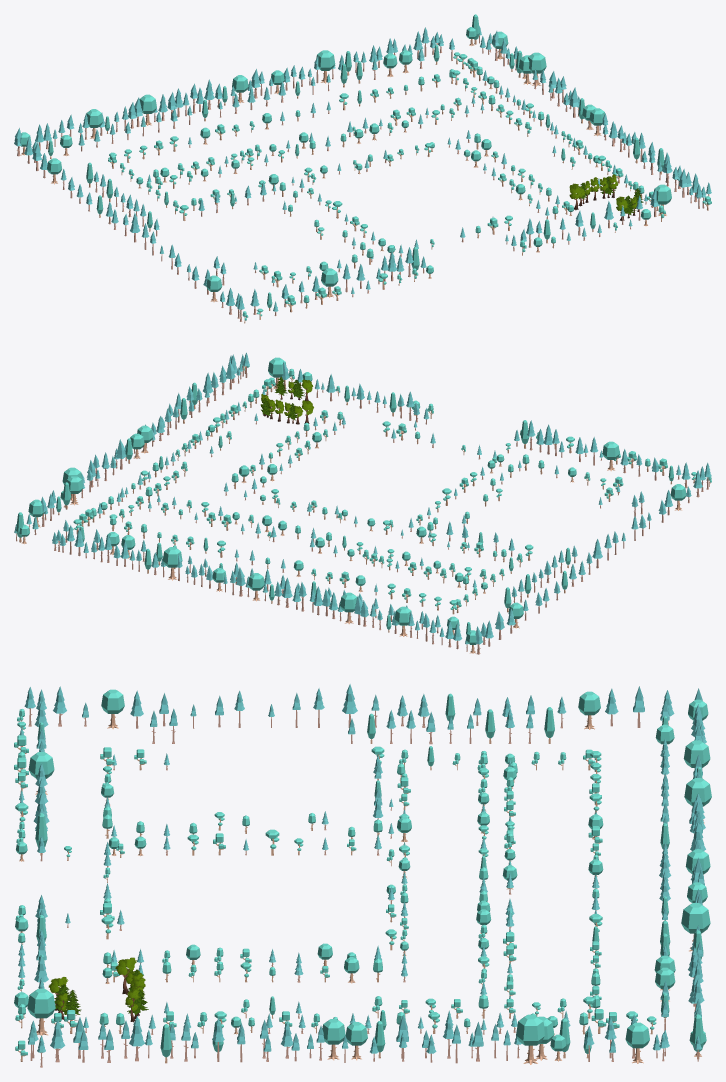
The model's file is ov-trees.glb.
3 views of the same model, one above another, from view 1: azimuth 30°, elevation 25°; view 2: azimuth 150°, elevation 25°; view 3: azimuth 270°, elevation 25° (orthographic). The views are drawn at different scales.
Parts seen in each view (by area): view 1: no part large enough to name; view 2: no part large enough to name; view 3: Tree_428_tree_oak, Tree_384_tree_oak, Tree_367_tree_oak, Tree_436_tree_oak, Tree_119_tree_oak.
Part boxes in pixels (x1,y1,x2,y2): Tree_428_tree_oak: (516,1014,544,1064); Tree_384_tree_oak: (27,988,55,1035); Tree_367_tree_oak: (681,903,710,951); Tree_436_tree_oak: (625,1022,649,1063); Tree_119_tree_oak: (322,1019,345,1060).
Size of the model in its own units: 248 by 15.42 by 212.
8 materials, 3 textured.
